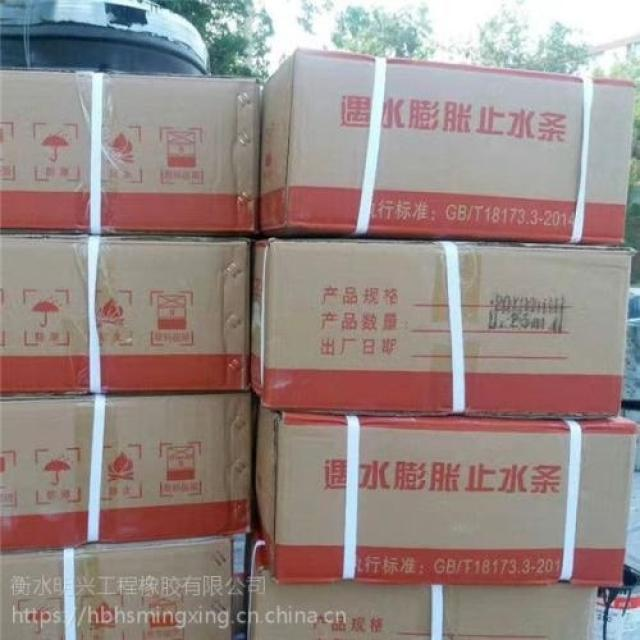box: (257, 47, 635, 247), (251, 393, 634, 588), (250, 234, 634, 419), (246, 507, 599, 640), (0, 68, 259, 234), (0, 232, 256, 396), (0, 392, 251, 554), (1, 532, 251, 640)
